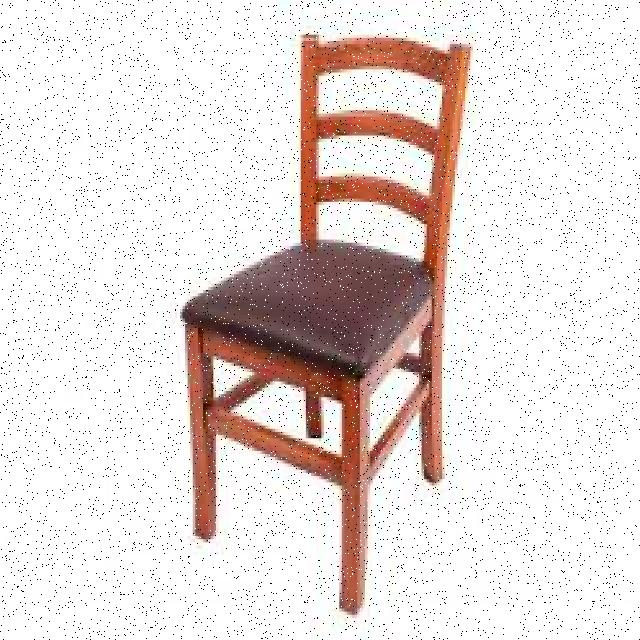bottle: (180, 35, 474, 618)
